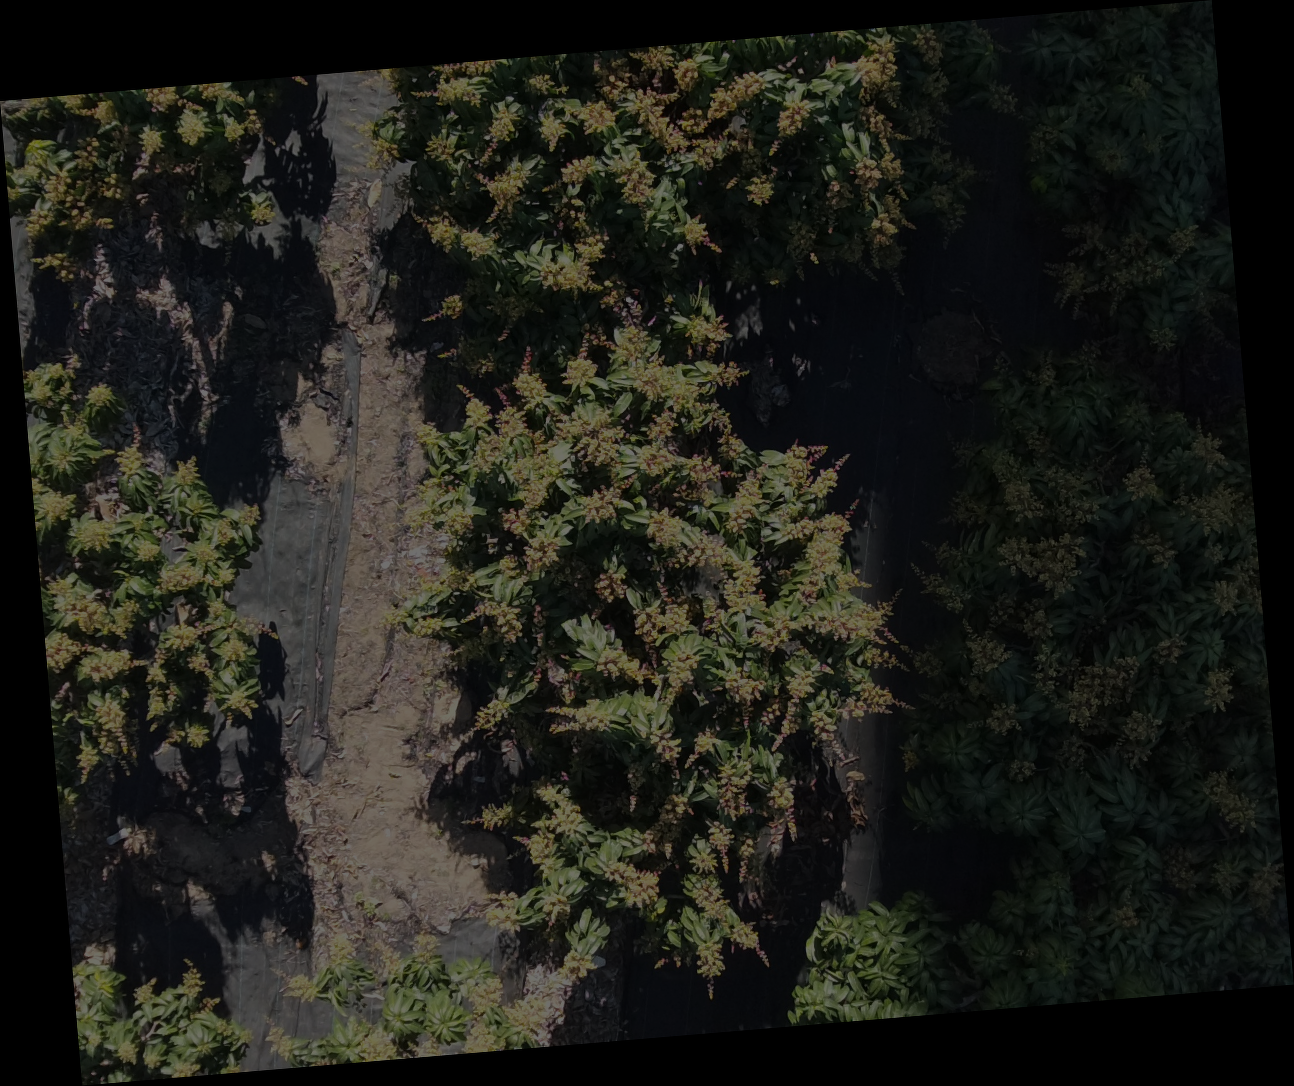flowers: (467, 356, 643, 577), (608, 322, 740, 467), (46, 574, 164, 728), (629, 76, 767, 170), (6, 136, 128, 237), (1045, 219, 1166, 314), (648, 506, 759, 601), (154, 594, 277, 664), (993, 447, 1096, 530), (267, 1017, 440, 1062), (457, 965, 547, 1050), (686, 871, 764, 967), (25, 361, 123, 436), (515, 784, 586, 873), (793, 514, 864, 602), (597, 645, 701, 704), (635, 440, 732, 501), (751, 605, 892, 648), (48, 574, 138, 639), (1056, 660, 1141, 727), (138, 273, 198, 365), (129, 111, 208, 180), (1000, 535, 1086, 598), (766, 653, 820, 748), (46, 629, 138, 683), (681, 130, 763, 187), (76, 692, 129, 780), (545, 157, 599, 242), (539, 235, 610, 295), (158, 542, 238, 591), (418, 211, 496, 261), (1175, 484, 1253, 532), (414, 62, 499, 107), (147, 86, 207, 147), (784, 442, 848, 498), (560, 325, 613, 389), (1203, 770, 1256, 833), (989, 591, 1050, 642), (643, 795, 693, 858), (684, 287, 727, 354), (855, 38, 898, 107), (705, 72, 766, 119), (471, 106, 521, 162), (479, 162, 529, 219), (1212, 556, 1260, 615), (606, 860, 659, 909), (634, 600, 692, 645), (1116, 710, 1163, 766), (245, 203, 291, 259), (766, 101, 813, 154), (724, 668, 766, 727), (469, 598, 521, 643), (841, 680, 906, 716), (916, 565, 962, 614), (724, 473, 762, 533), (437, 337, 493, 377), (716, 758, 753, 819), (353, 121, 396, 169), (33, 477, 76, 526), (613, 156, 654, 207), (60, 93, 117, 128), (547, 700, 610, 733), (931, 183, 965, 241), (917, 32, 947, 98), (853, 152, 903, 192), (1247, 864, 1285, 915), (1132, 521, 1175, 567), (512, 346, 545, 403), (206, 300, 235, 363), (861, 105, 906, 144), (696, 939, 725, 999), (600, 287, 642, 326), (767, 778, 794, 838), (968, 633, 1008, 672), (565, 101, 615, 133), (69, 518, 114, 553), (1161, 845, 1195, 891), (489, 294, 538, 325), (905, 103, 945, 141), (592, 561, 627, 603), (634, 45, 691, 71), (460, 382, 492, 428), (114, 428, 144, 476), (422, 566, 476, 591), (683, 215, 719, 254), (1123, 464, 1161, 500), (1063, 221, 1104, 254), (46, 438, 76, 484), (1191, 429, 1224, 469), (708, 821, 734, 871), (1203, 669, 1234, 711), (787, 221, 817, 263), (34, 252, 76, 282), (950, 490, 987, 525), (425, 133, 461, 167), (1054, 734, 1088, 770), (547, 657, 574, 704), (1020, 601, 1052, 641), (467, 805, 514, 831), (684, 729, 718, 766), (473, 697, 510, 730), (1028, 123, 1060, 161), (223, 109, 262, 140), (558, 949, 595, 981), (375, 939, 402, 983), (913, 28, 942, 68), (219, 688, 259, 718), (651, 730, 681, 768), (420, 295, 464, 320), (166, 724, 210, 749), (985, 704, 1019, 735), (283, 974, 319, 1003), (197, 82, 242, 105), (1167, 226, 1199, 257), (441, 506, 473, 538), (1211, 861, 1241, 894), (1112, 890, 1138, 929), (265, 1024, 291, 1062), (1152, 636, 1186, 664), (1028, 352, 1056, 387), (215, 635, 251, 662), (737, 836, 759, 880), (988, 83, 1017, 115), (542, 892, 570, 925), (913, 648, 943, 678), (627, 763, 645, 812), (412, 931, 440, 963), (217, 208, 244, 241), (181, 958, 203, 999), (745, 175, 774, 205), (673, 58, 699, 92), (527, 73, 567, 95), (1093, 148, 1124, 175), (75, 138, 100, 170), (826, 179, 852, 209), (863, 646, 899, 668), (144, 212, 163, 252), (935, 541, 962, 568), (173, 457, 199, 485), (1025, 428, 1050, 456), (1147, 328, 1178, 351), (1006, 758, 1035, 782), (86, 382, 116, 405), (412, 616, 445, 636), (133, 979, 158, 1004), (374, 68, 402, 89), (187, 653, 211, 678), (136, 540, 161, 562), (393, 170, 411, 201), (215, 518, 235, 545), (117, 1041, 138, 1066), (238, 504, 261, 526), (533, 605, 545, 646), (1142, 135, 1164, 156), (902, 746, 919, 771), (465, 277, 486, 297), (968, 676, 987, 697), (1171, 716, 1193, 736), (1203, 544, 1224, 563), (1153, 3, 1183, 16), (170, 1063, 200, 1076), (200, 995, 221, 1011), (1260, 670, 1268, 692), (291, 76, 308, 86), (827, 31, 847, 39)
